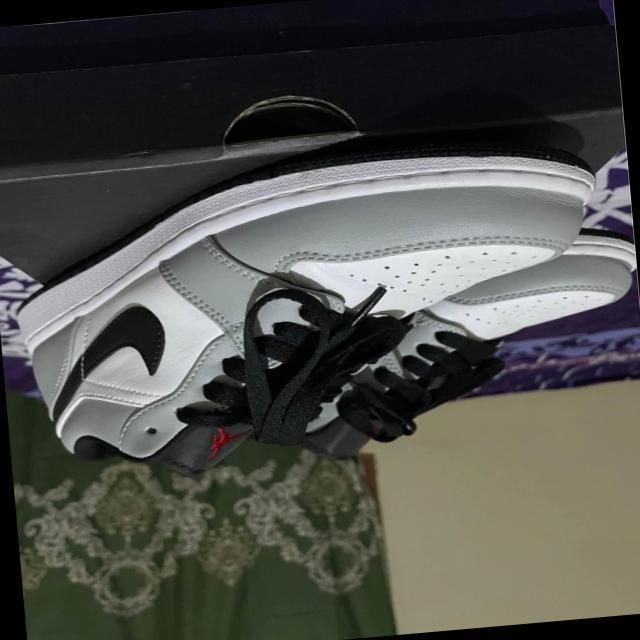nike original jordan 1: (0, 121, 640, 492), (269, 226, 640, 468)
